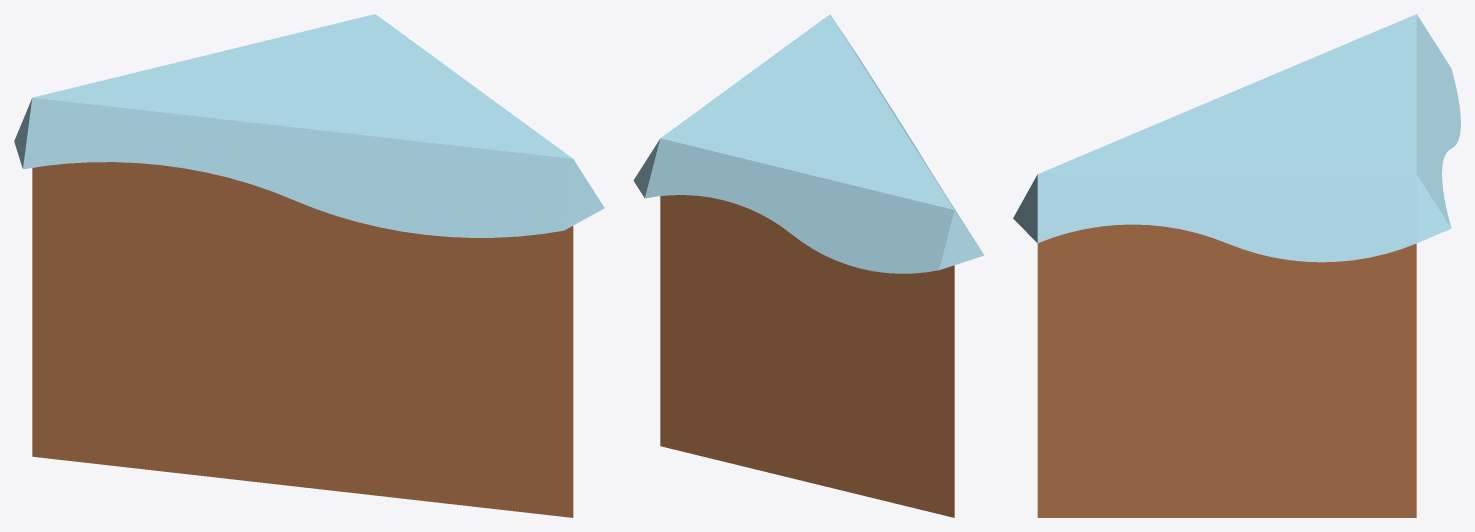
The model's file is blockSnowCornerLarge.fbx.
3 renders of one model, left to right at view 1: azimuth 30°, elevation 25°; view 2: azimuth 150°, elevation 25°; view 3: azimuth 270°, elevation 25°, orthographic. The views are drawn at different scales.
Parts seen in each view (by area): view 1: blockSnowCornerLarge; view 2: blockSnowCornerLarge; view 3: blockSnowCornerLarge.
Part boxes in pixels (x1,y1,x2,y2): blockSnowCornerLarge: (14, 14, 604, 517); blockSnowCornerLarge: (633, 14, 984, 517); blockSnowCornerLarge: (1013, 14, 1460, 517).
Bounding box in the file's own units: 11.81 × 10 × 11.81.
